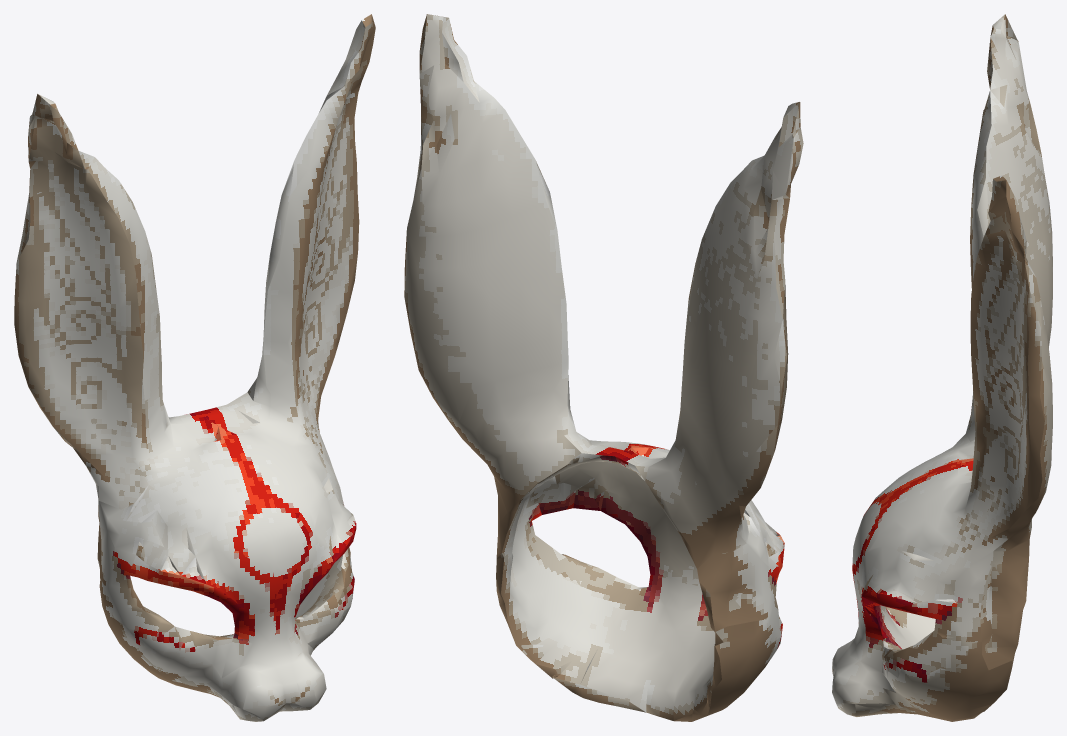
File: wear_usagi_mask.glb
The picture shows the model from 3 angles, left to right: view 1: azimuth 30°, elevation 25°; view 2: azimuth 150°, elevation 25°; view 3: azimuth 270°, elevation 25°; orthographic projection. The views are drawn at different scales.
Parts seen in each view (by area): view 1: mesh; view 2: mesh; view 3: mesh.
Part boxes in pixels (box(x1,y1,x2,y2)): mesh: box(14, 14, 375, 721); mesh: box(404, 14, 803, 721); mesh: box(832, 14, 1052, 721).
Size of the model in its own units: 0.13 by 0.22 by 0.0721.
Materials: 1 (1 with a texture image).
